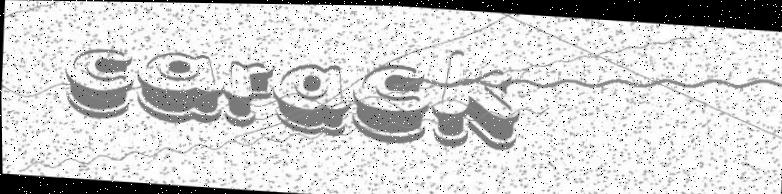a: (134, 50, 225, 127), (271, 61, 352, 136)
c: (349, 61, 432, 145), (62, 43, 136, 122)
k: (428, 46, 524, 152)
r: (222, 58, 274, 128)
